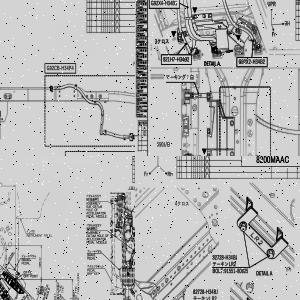PartNumber: (163, 55, 190, 63), (46, 65, 75, 71), (150, 0, 178, 6), (238, 58, 266, 64), (212, 254, 238, 260), (224, 268, 249, 274), (193, 288, 218, 294)
